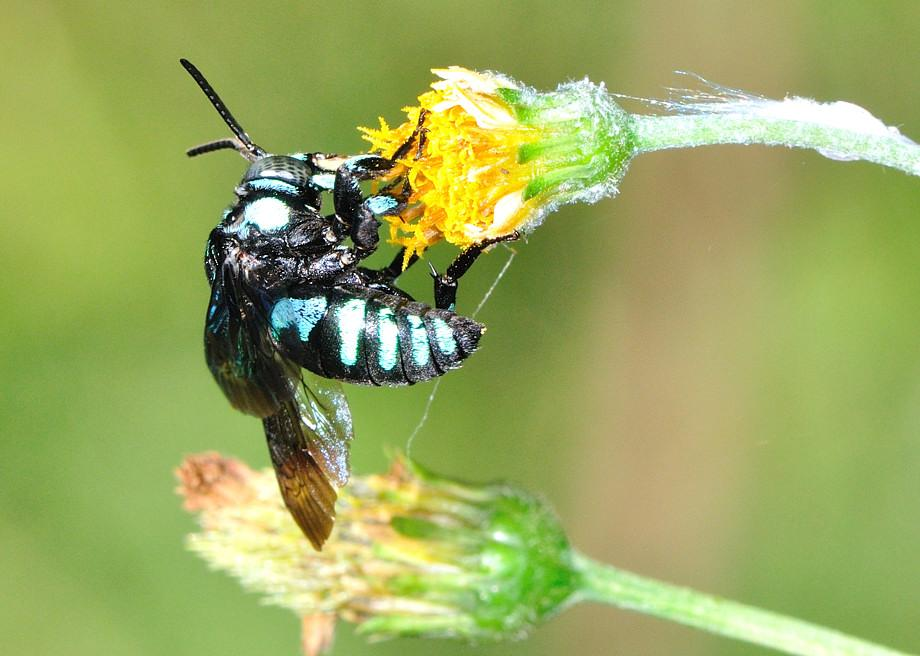Thyreus: (164, 39, 523, 555)
